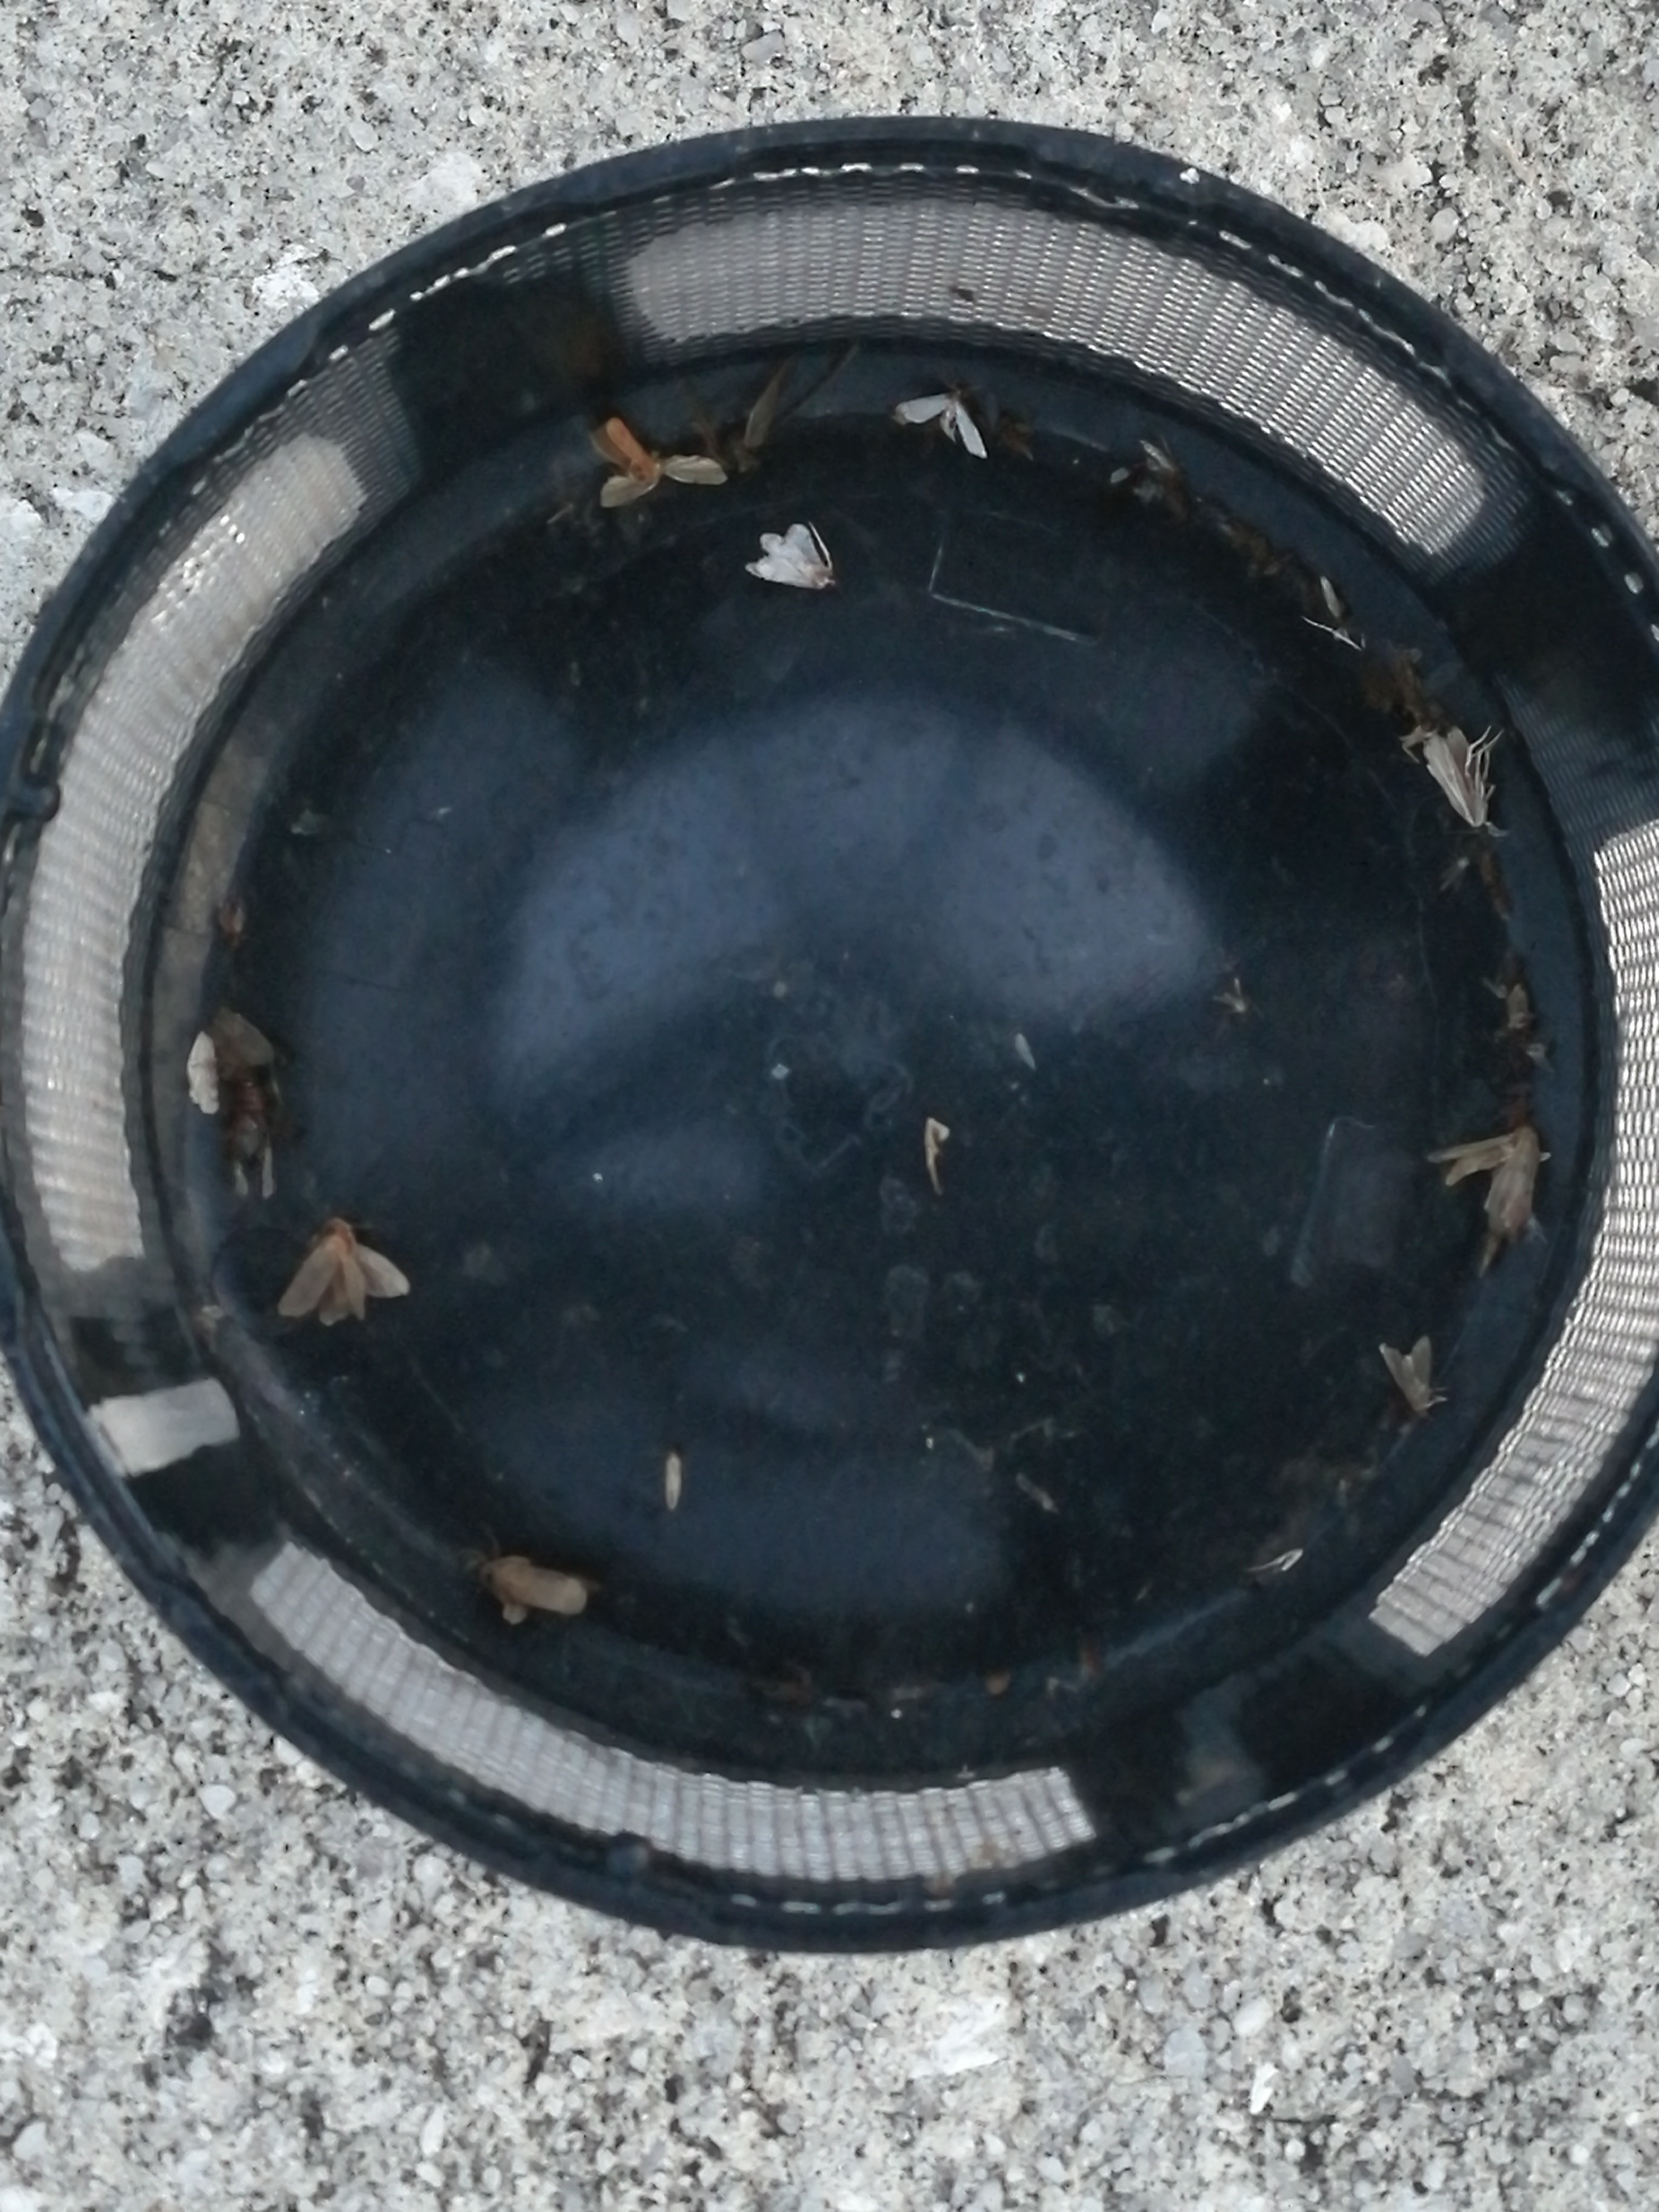mosquito: (483, 1554, 589, 1615)
moth: (282, 1219, 408, 1320), (596, 420, 727, 509), (1431, 1129, 1537, 1233), (1425, 730, 1486, 829), (897, 395, 988, 462), (751, 526, 836, 589), (1385, 1339, 1429, 1418)
